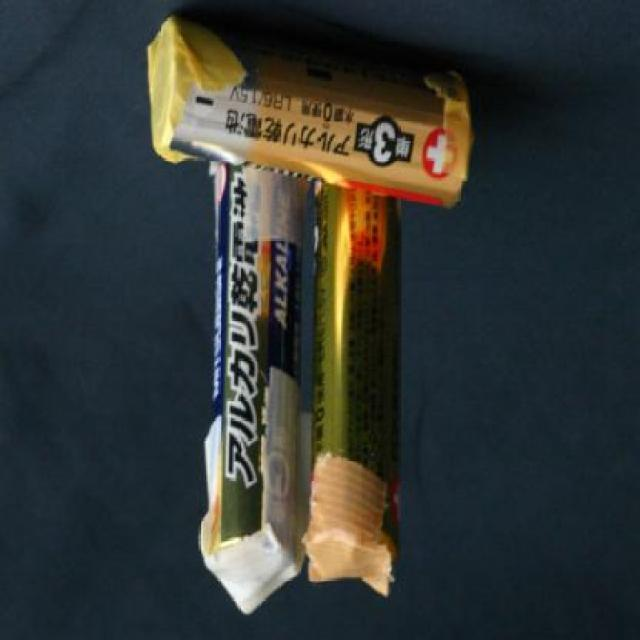hazardous waste: (138, 20, 484, 214), (177, 133, 317, 602), (303, 137, 400, 597)
